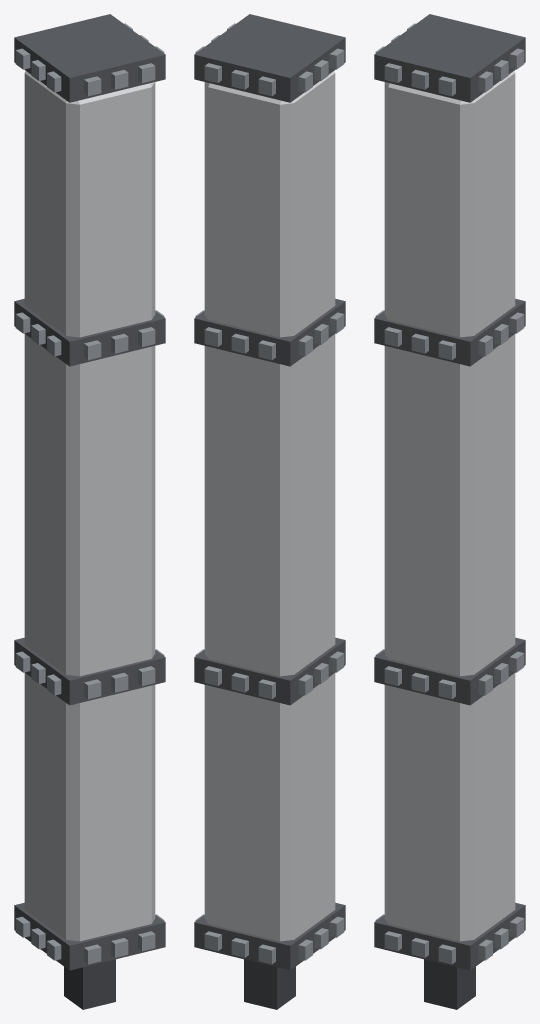
Rendered from SM_Obstacle_02_B_Pillar.fbx.
The picture shows the model from 3 angles, left to right: view 1: azimuth 30°, elevation 25°; view 2: azimuth 150°, elevation 25°; view 3: azimuth 330°, elevation 25°; orthographic projection.
Visible parts, largest first — view 1: pCube668; view 2: pCube668; view 3: pCube668.
Boxes of the visible parts, <box> form: pCube668: <box>14,14,165,1009</box>; pCube668: <box>194,14,345,1009</box>; pCube668: <box>374,14,525,1009</box>.
Size of the model in its own units: 33.91 by 281 by 33.91.
Materials: 1 (1 with a texture image).
